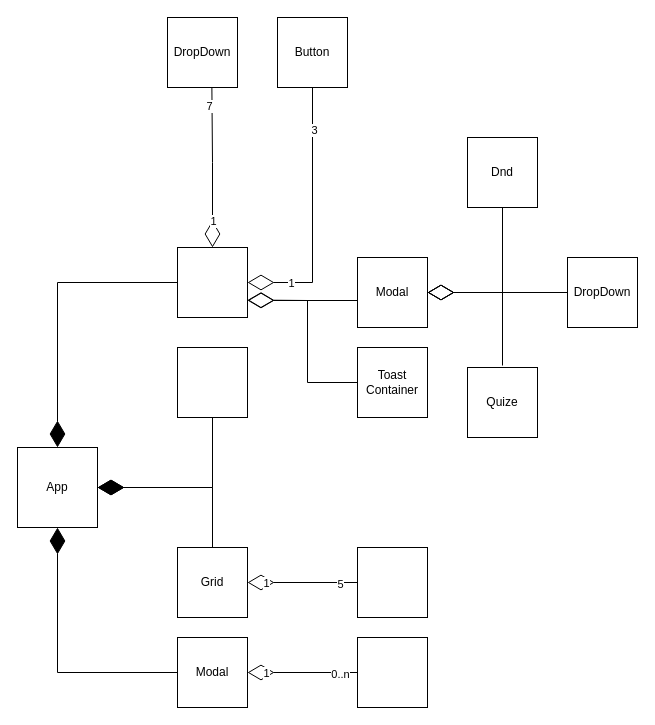
Some shapes in this 655 by 725 pixel diagram are drawn without their labels. Each missing label, with the centre of its shape:
Card: the point at 392,672
Legend: the point at 212,382
Navbar: the point at 212,282
Node: the point at 392,582
